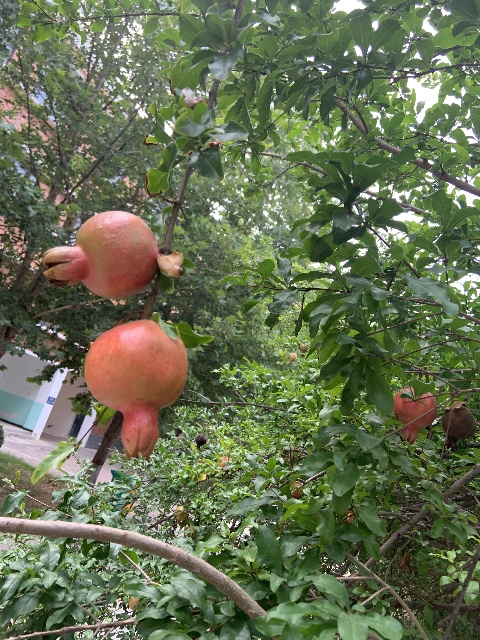ripe: (83, 319, 187, 459), (42, 210, 159, 300), (393, 386, 436, 443)
